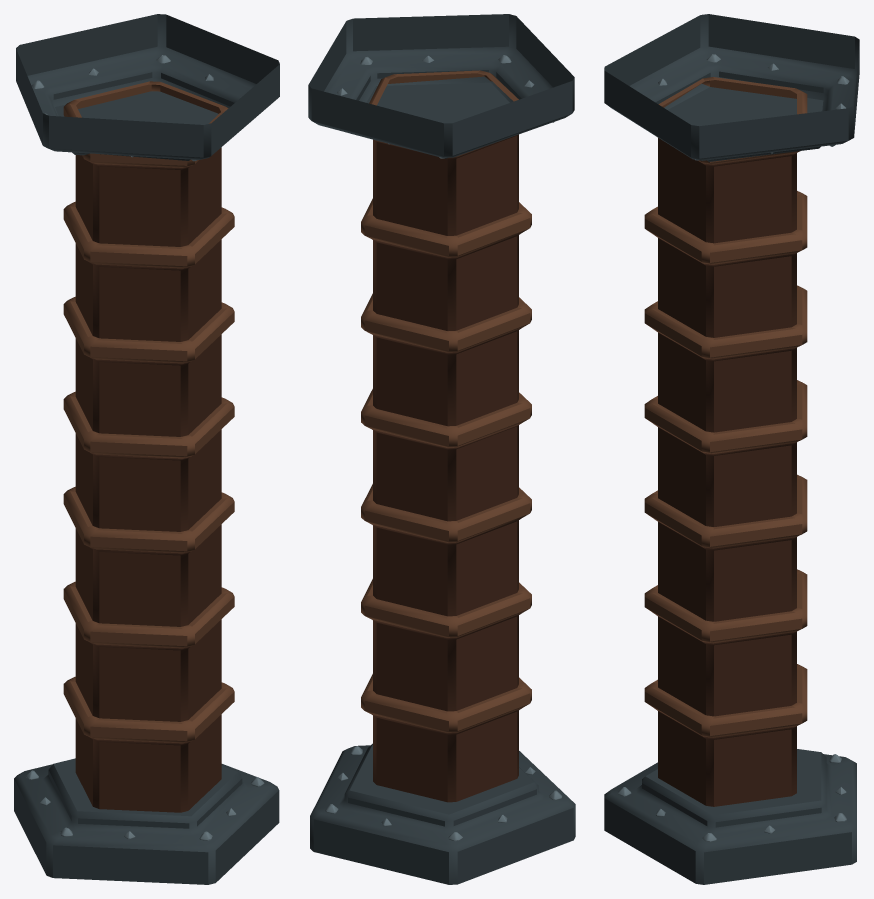
The model's file is pipe_6m.fbx.
3 views of the same model, side by side, from view 1: azimuth 30°, elevation 25°; view 2: azimuth 150°, elevation 25°; view 3: azimuth 270°, elevation 25° (orthographic).
Parts seen in each view (by area): view 1: curve gen v2.003; view 2: curve gen v2.003; view 3: curve gen v2.003.
Boxes of the visible parts, x1=… form: curve gen v2.003: x1=14, y1=14, x2=279, y2=884; curve gen v2.003: x1=308, y1=14, x2=575, y2=884; curve gen v2.003: x1=604, y1=14, x2=859, y2=884.
Size of the model in its own units: 1.89 by 5.92 by 1.81.
